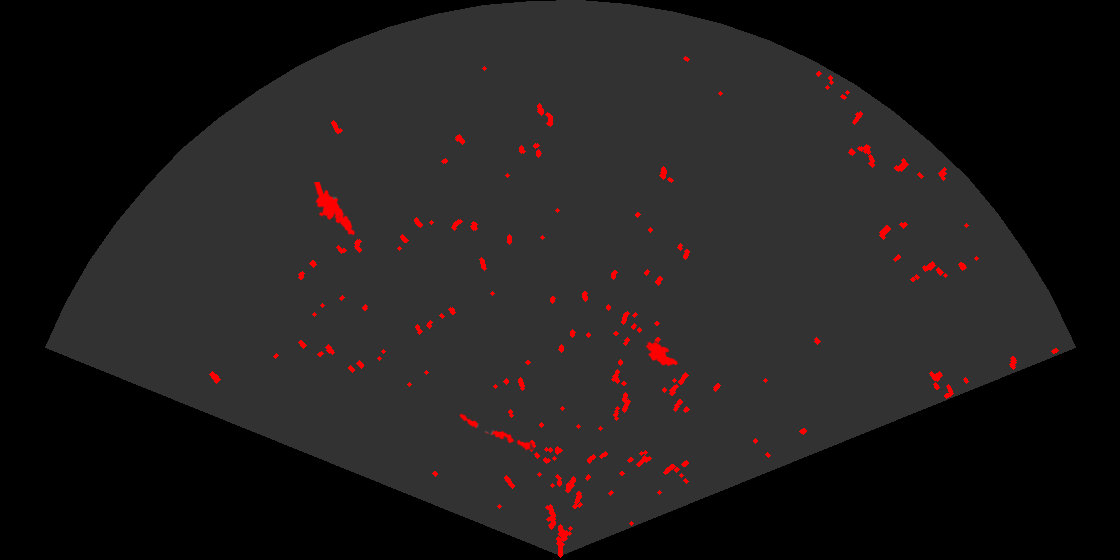AUV: (644, 340, 680, 368)
chain: (458, 412, 534, 452)
frogman: (312, 182, 357, 237)
